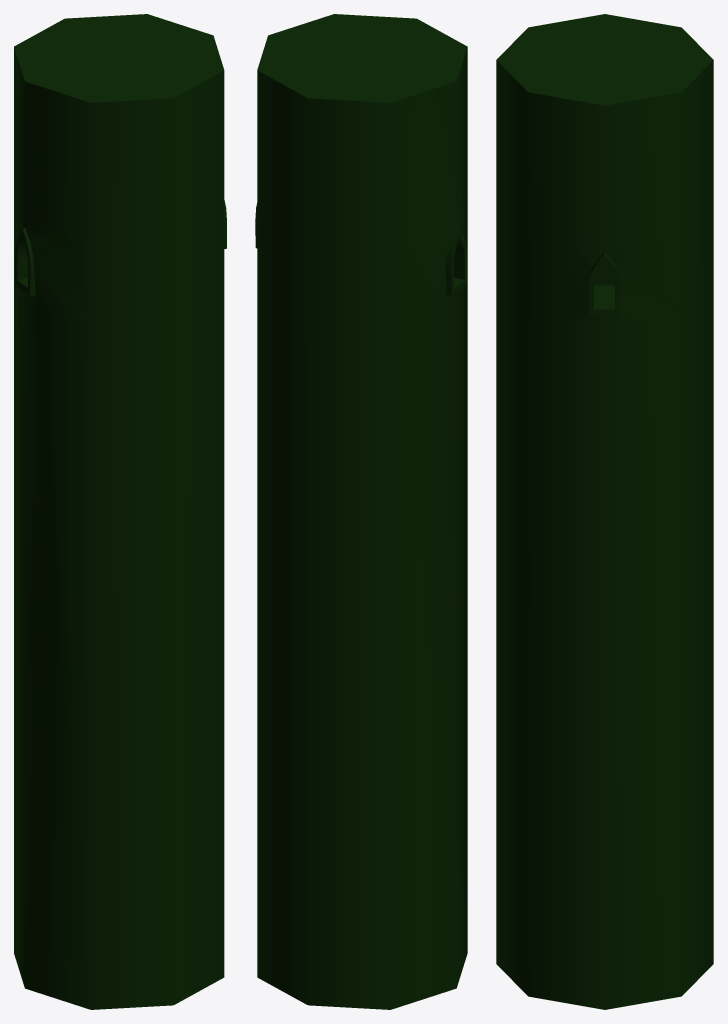
The model's file is round-tower-1.fbx.
The picture shows the model from 3 angles, left to right: view 1: azimuth 30°, elevation 25°; view 2: azimuth 150°, elevation 25°; view 3: azimuth 270°, elevation 25°; orthographic projection.
Parts seen in each view (by area): view 1: round-tower-1; view 2: round-tower-1; view 3: round-tower-1.
Boxes of the visible parts, x1,y1,x2,y2 form: round-tower-1: (14, 14, 226, 1009); round-tower-1: (255, 14, 467, 1009); round-tower-1: (496, 14, 713, 1009).
Bounding box in the file's own units: 3.38 × 14.92 × 3.25.
